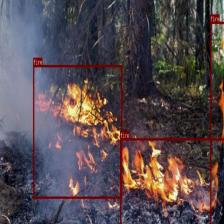fire: (33, 65, 122, 198), (119, 137, 224, 224), (210, 21, 224, 224)
